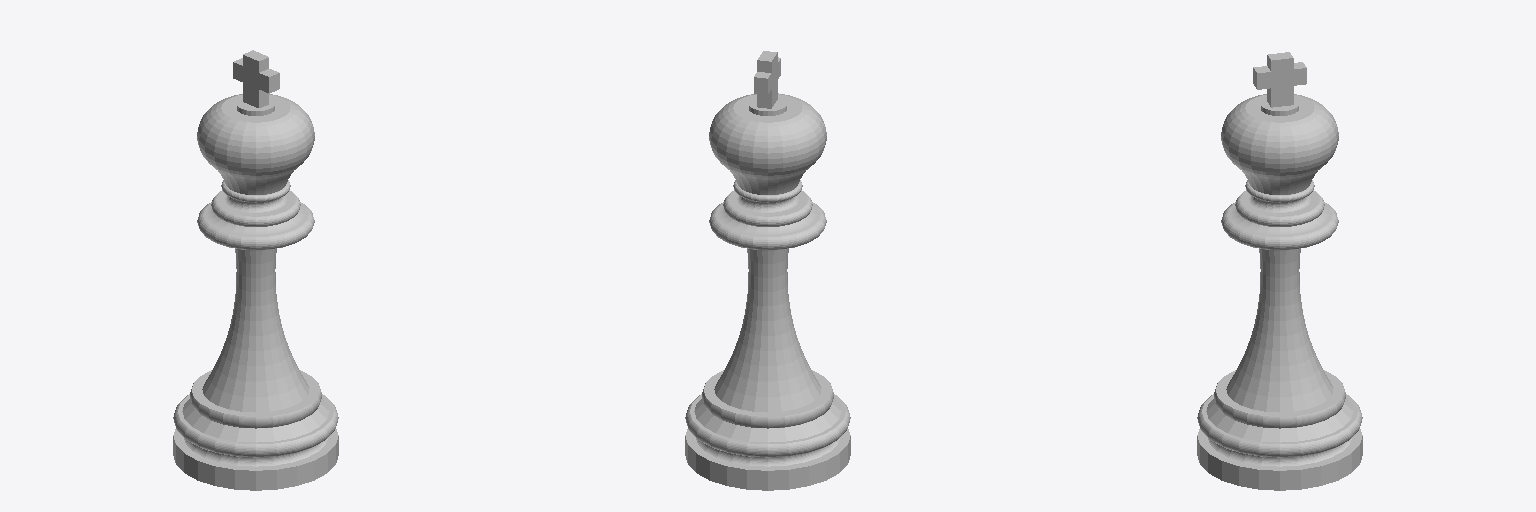
The model's file is rei.obj.
3 renders of one model, left to right at view 1: azimuth 30°, elevation 25°; view 2: azimuth 150°, elevation 25°; view 3: azimuth 270°, elevation 25°, orthographic.
Parts seen in each view (by area): view 1: object_1; view 2: object_1; view 3: object_1.
Boxes of the visible parts, x1=… form: object_1: x1=173, y1=50, x2=338, y2=490; object_1: x1=685, y1=51, x2=850, y2=490; object_1: x1=1197, y1=52, x2=1362, y2=490.
Bounding box in the file's own units: 0.0569 × 0.1517 × 0.0569.